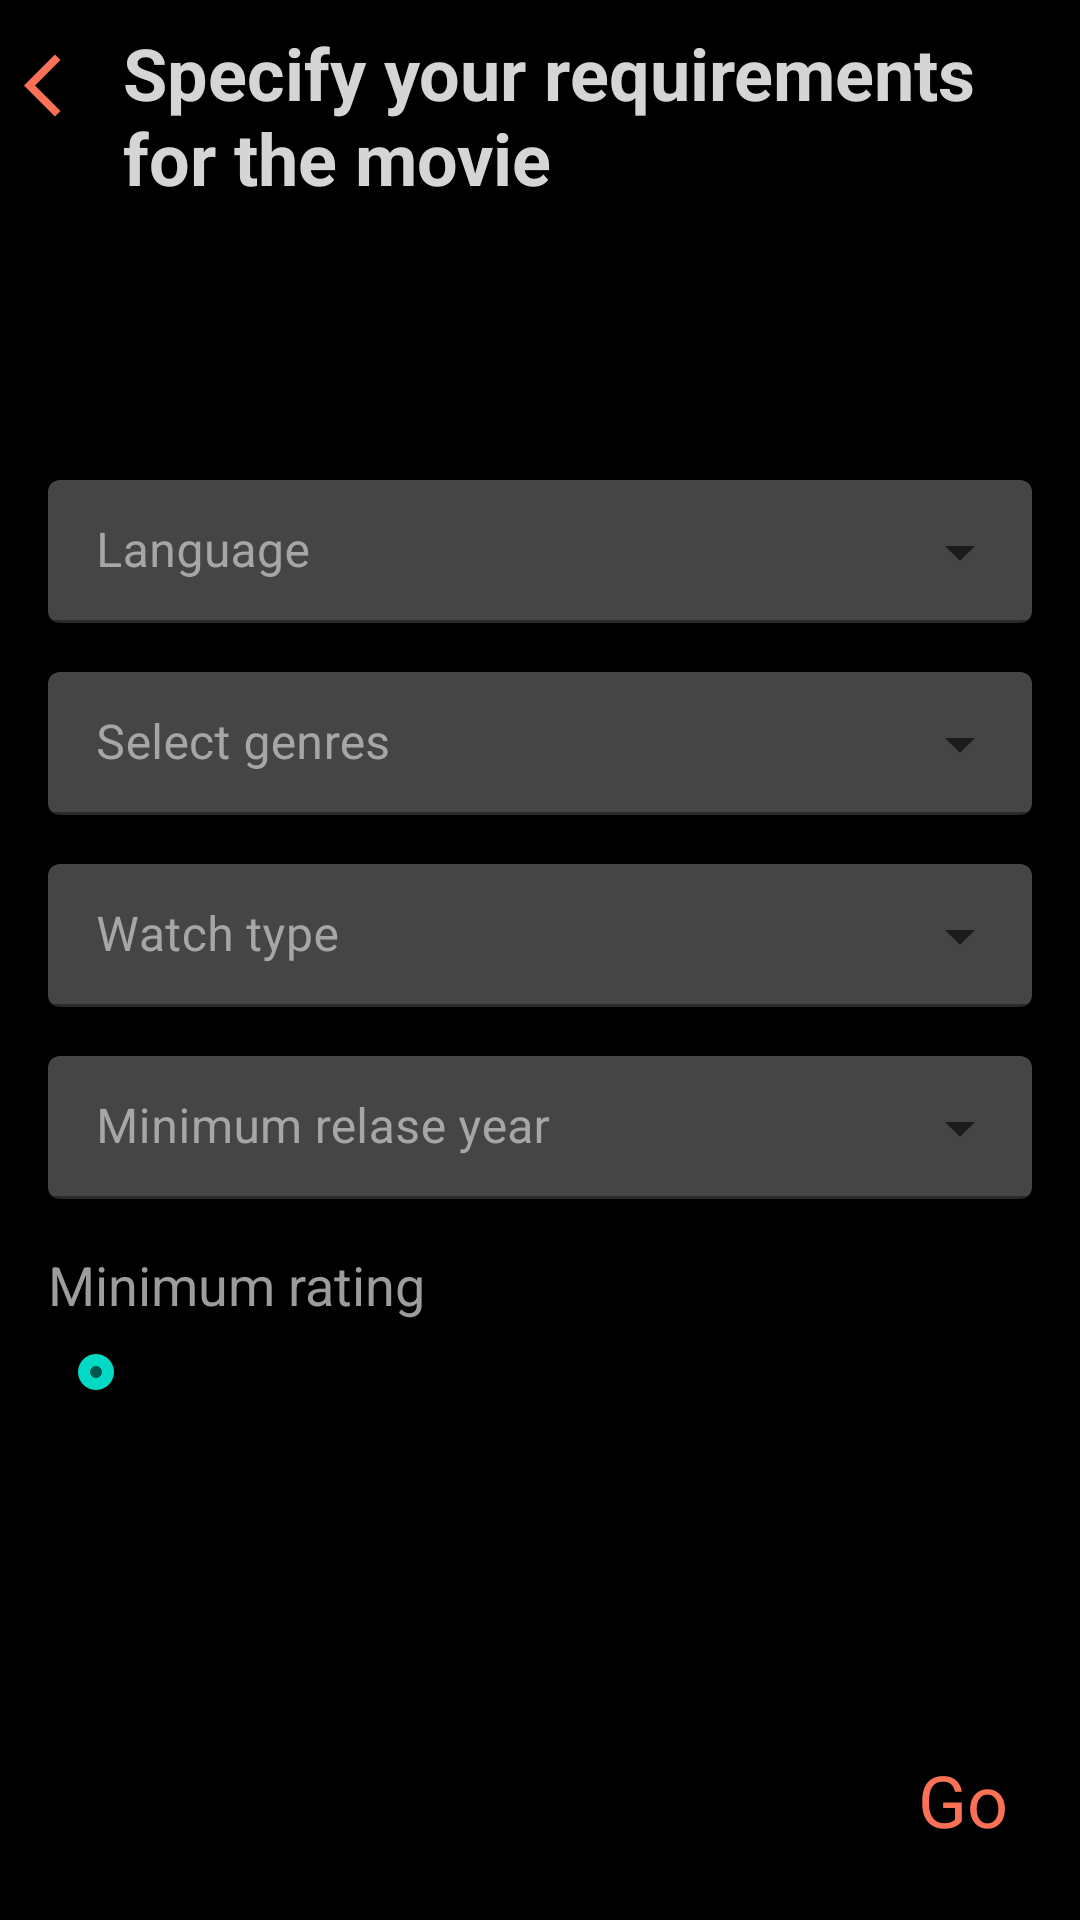

Named icons in this screenshot (1080×1920) and their bounding boxes, (x1, y1, x2, y2):
back: (24, 54, 61, 117)
